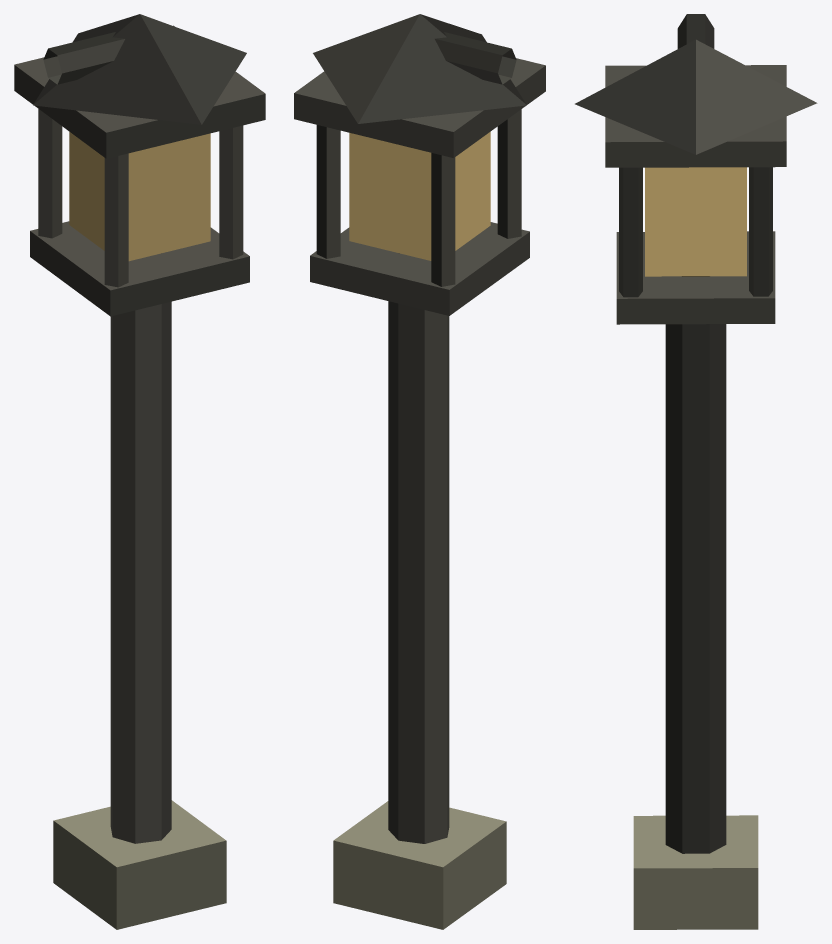
The picture shows the model from 3 angles, left to right: view 1: azimuth 30°, elevation 25°; view 2: azimuth 150°, elevation 25°; view 3: azimuth 270°, elevation 25°; orthographic projection.
Visible parts, largest first — view 1: 45c862027f03234118779b18430618791aa9797bb5730ccde32ceb5cbcff; view 2: 45c862027f03234118779b18430618791aa9797bb5730ccde32ceb5cbcff; view 3: 45c862027f03234118779b18430618791aa9797bb5730ccde32ceb5cbcff.
Part boxes in pixels (x1,y1,x2,y2): 45c862027f03234118779b18430618791aa9797bb5730ccde32ceb5cbcff: [14, 14, 265, 929]; 45c862027f03234118779b18430618791aa9797bb5730ccde32ceb5cbcff: [294, 14, 545, 929]; 45c862027f03234118779b18430618791aa9797bb5730ccde32ceb5cbcff: [575, 14, 817, 929].
Bounding box in the file's own units: 0.86 × 3.37 × 0.86.
2 materials, 1 textured.
